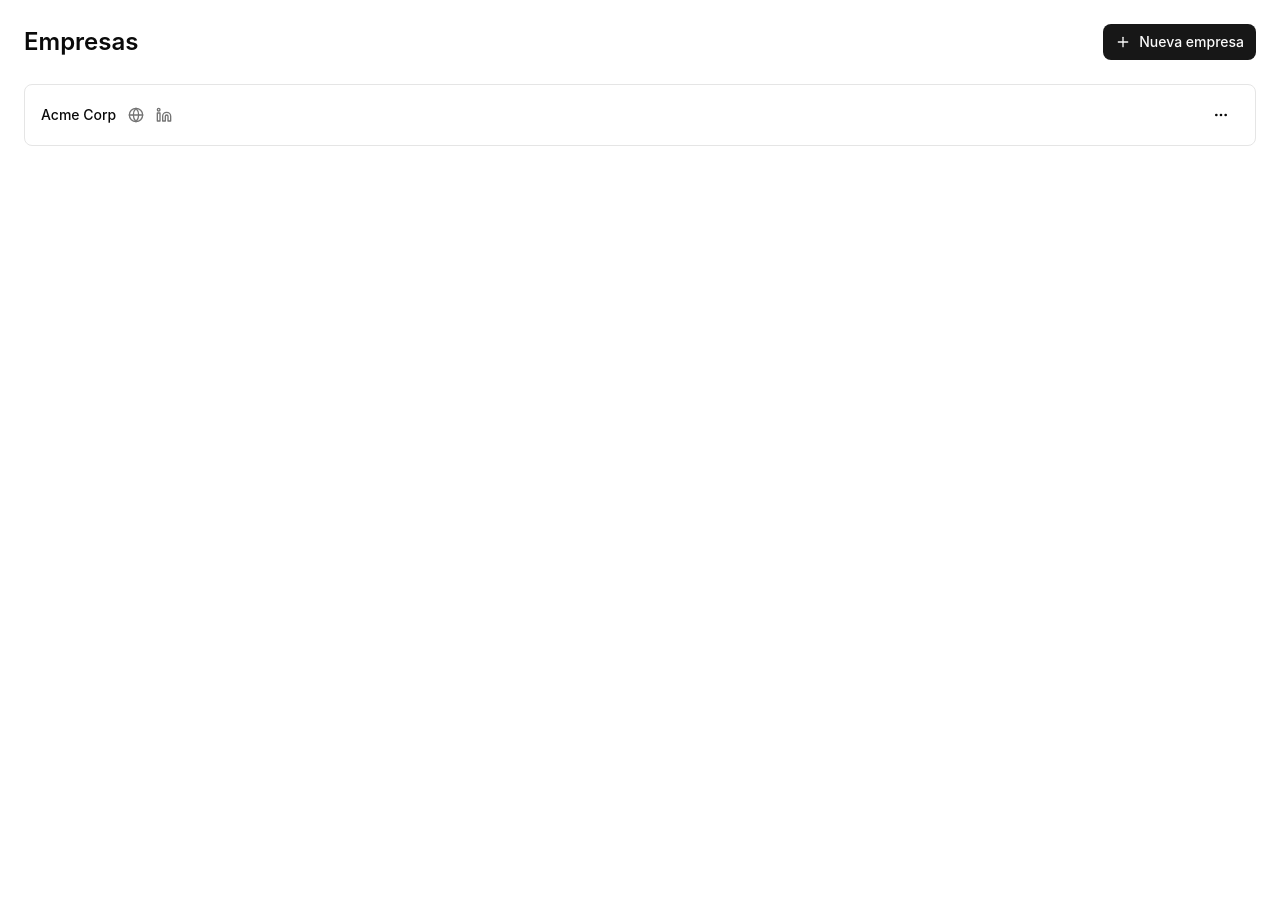
Test: CompaniesPage › deleting a company › confirms in the v3-cascade AlertDialog (contacts deleted, interviews kept without company) and deletes with its toast
Expected: the link "Acme Corp" is shown, [41,105,116,125]
Click the button named "Acciones".
click(1221, 115)  # box [1203,97,1239,133]
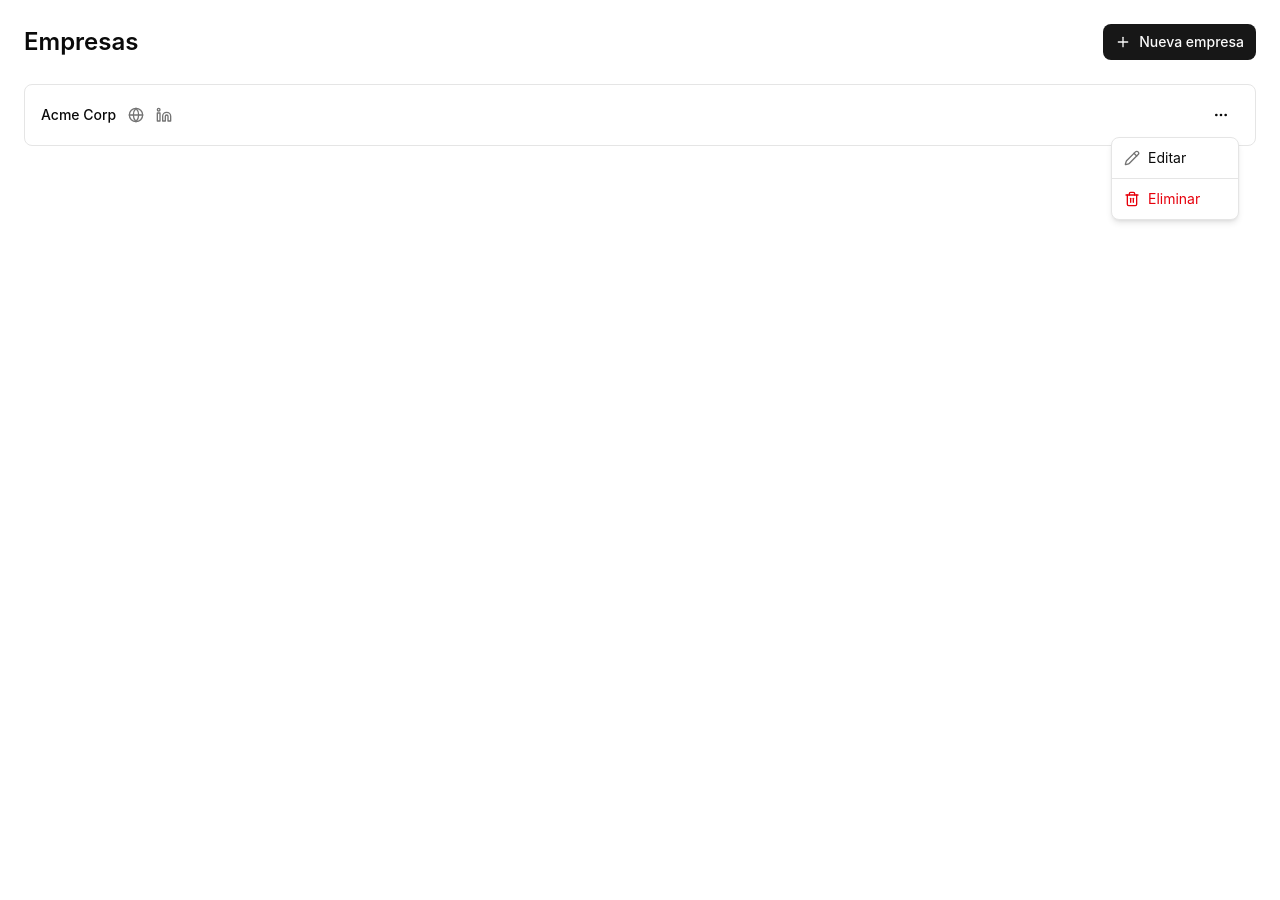
Click the menu item "Eliminar".
click(1162, 198)  # box [1124,190,1200,207]
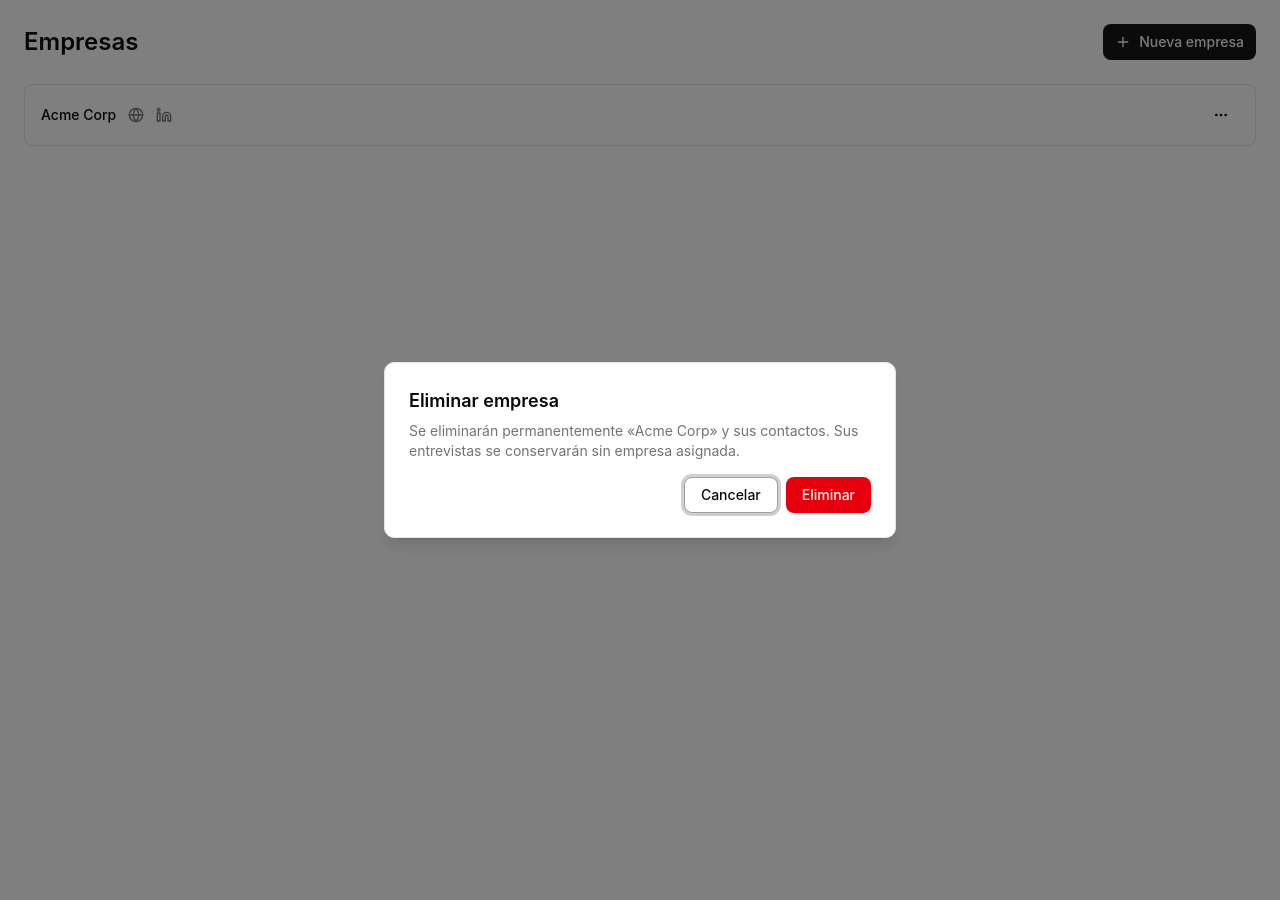
Expected: the heading "Eliminar empresa" is shown, [409,387,559,415]
Expected: the text "Se eliminarán permanentemente «Acme Corp» y sus contactos. Sus entrevistas se conservarán sin empresa asignada." is shown, [409,421,871,461]
Expected: the button "Cancelar" is shown, [684,477,778,513]
Click the button "Eliminar".
click(828, 495)  # box [786,477,871,513]
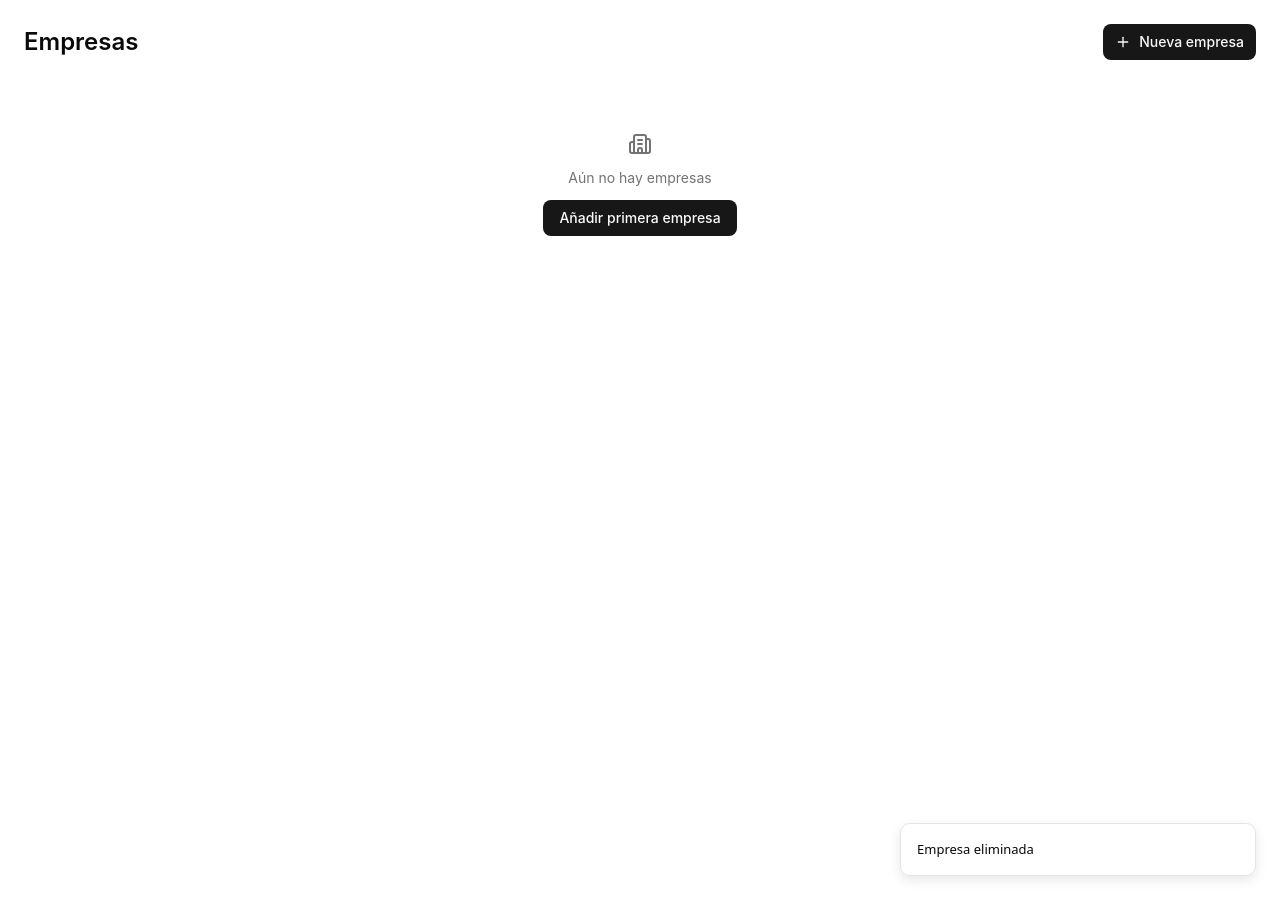
Expected: the link "Acme Corp" is gone
